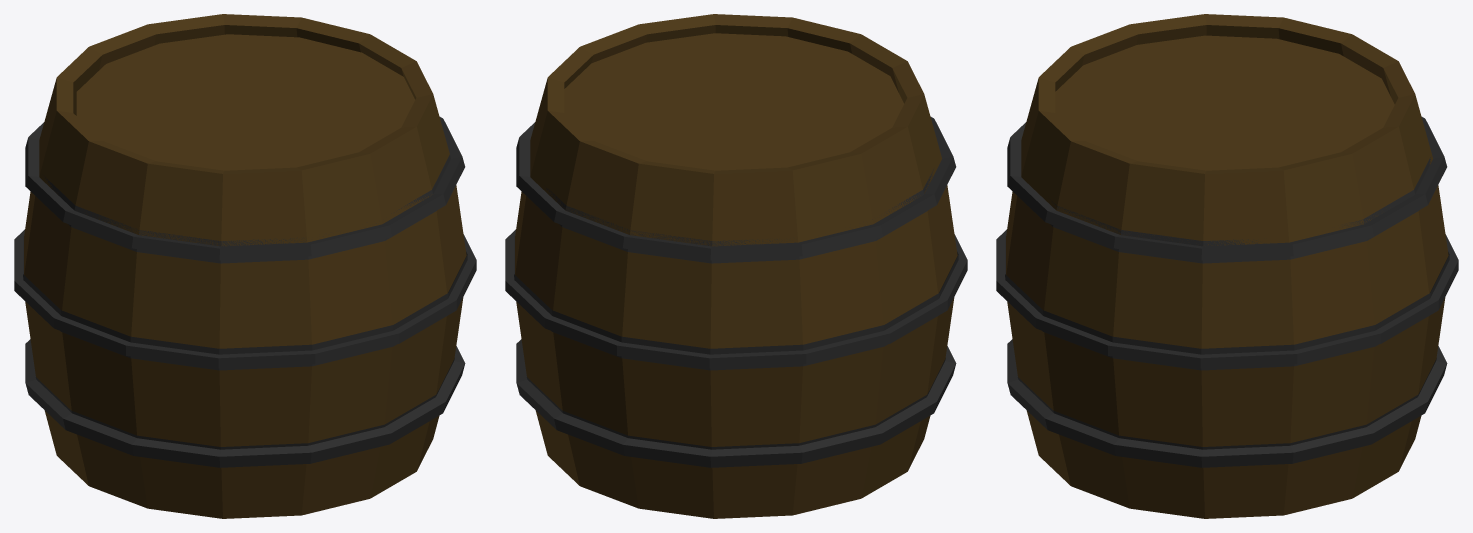
Rendered from Barrel.glb.
The picture shows the model from 3 angles, left to right: view 1: azimuth 30°, elevation 25°; view 2: azimuth 150°, elevation 25°; view 3: azimuth 270°, elevation 25°; orthographic projection.
Parts seen in each view (by area): view 1: Cylinder, Lid, Rings; view 2: Cylinder, Lid, Rings; view 3: Cylinder, Lid, Rings.
Boxes of the visible parts, left/top/right/bottom form: Cylinder: left=24, top=14, right=466, bottom=518; Lid: left=76, top=34, right=414, bottom=170; Rings: left=14, top=117, right=476, bottom=467; Cylinder: left=515, top=14, right=957, bottom=518; Lid: left=564, top=33, right=903, bottom=170; Rings: left=505, top=117, right=967, bottom=467; Cylinder: left=1006, top=14, right=1448, bottom=518; Lid: left=1055, top=35, right=1394, bottom=170; Rings: left=996, top=117, right=1458, bottom=467.
Size of the model in its own units: 2.4 by 1.96 by 2.39.
